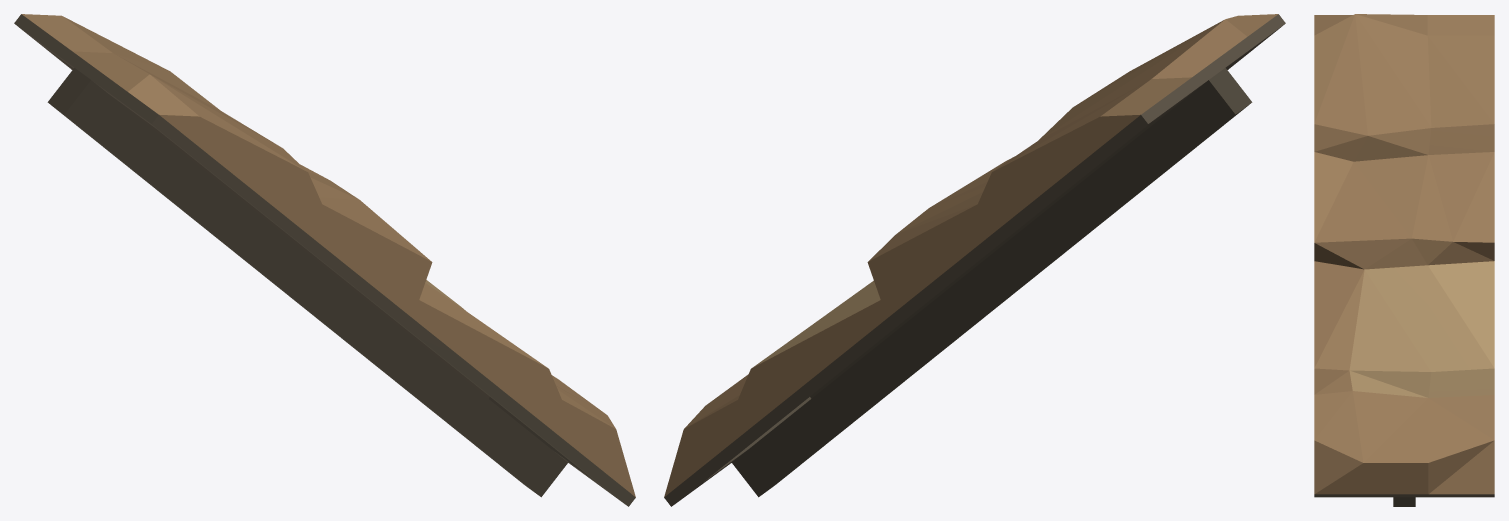
Rendered from kingdom_SM_Bld_House_Roof_Thatch_Half_02.gltf.
3 renders of one model, left to right at view 1: azimuth 30°, elevation 25°; view 2: azimuth 150°, elevation 25°; view 3: azimuth 270°, elevation 25°, orthographic. The views are drawn at different scales.
Visible parts, largest first — view 1: SM_Bld_House_Roof_Thatch_Half_02; view 2: SM_Bld_House_Roof_Thatch_Half_02; view 3: SM_Bld_House_Roof_Thatch_Half_02.
Boxes of the visible parts, x1,y1,x2,y2 form: SM_Bld_House_Roof_Thatch_Half_02: (14, 14, 635, 506); SM_Bld_House_Roof_Thatch_Half_02: (664, 14, 1285, 506); SM_Bld_House_Roof_Thatch_Half_02: (1314, 14, 1494, 506).
Bounding box in the file's own units: 2.73 × 2.74 × 1.25.
Materials: 1 (1 with a texture image).
